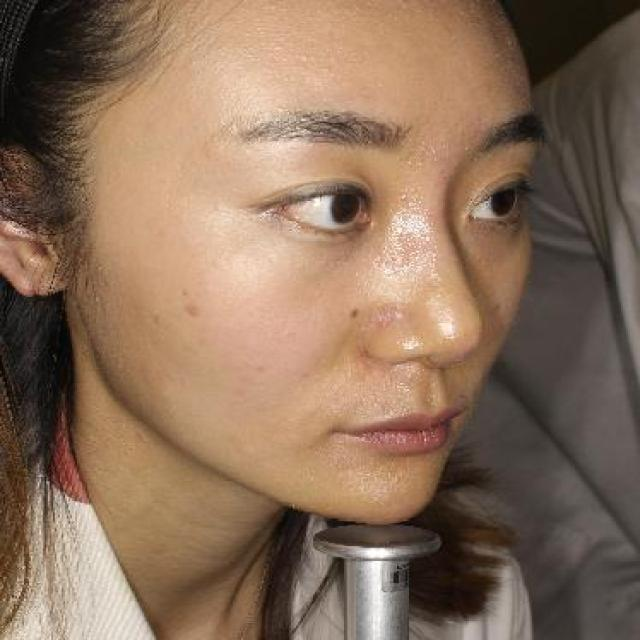darkspot: (248, 357, 269, 375), (182, 302, 204, 319), (148, 314, 163, 328)
nodules: (293, 49, 311, 62), (209, 57, 225, 69), (325, 52, 341, 63), (184, 57, 199, 68), (320, 65, 335, 76), (397, 194, 409, 205), (217, 48, 227, 59), (239, 27, 251, 36), (283, 29, 295, 37), (256, 27, 266, 36), (273, 43, 285, 49), (247, 42, 254, 51), (286, 40, 296, 46), (266, 51, 276, 57), (235, 45, 243, 52)
